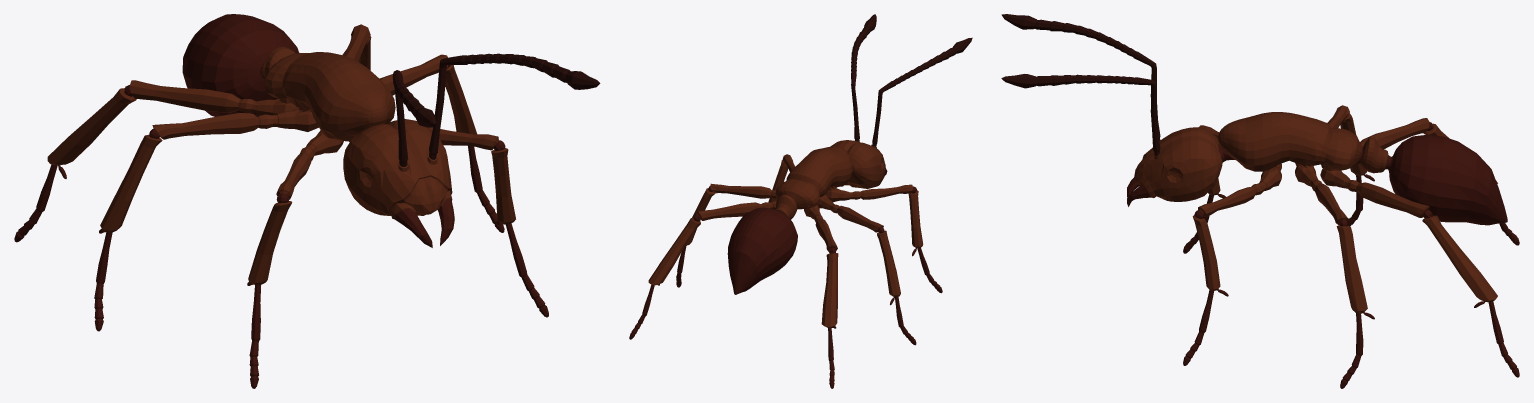
Rendered from ant_ant.obj.
The picture shows the model from 3 angles, left to right: view 1: azimuth 30°, elevation 25°; view 2: azimuth 150°, elevation 25°; view 3: azimuth 270°, elevation 25°; orthographic projection. The views are drawn at different scales.
Size of the model in its own units: 0.0196 by 0.0155 by 0.0274.
